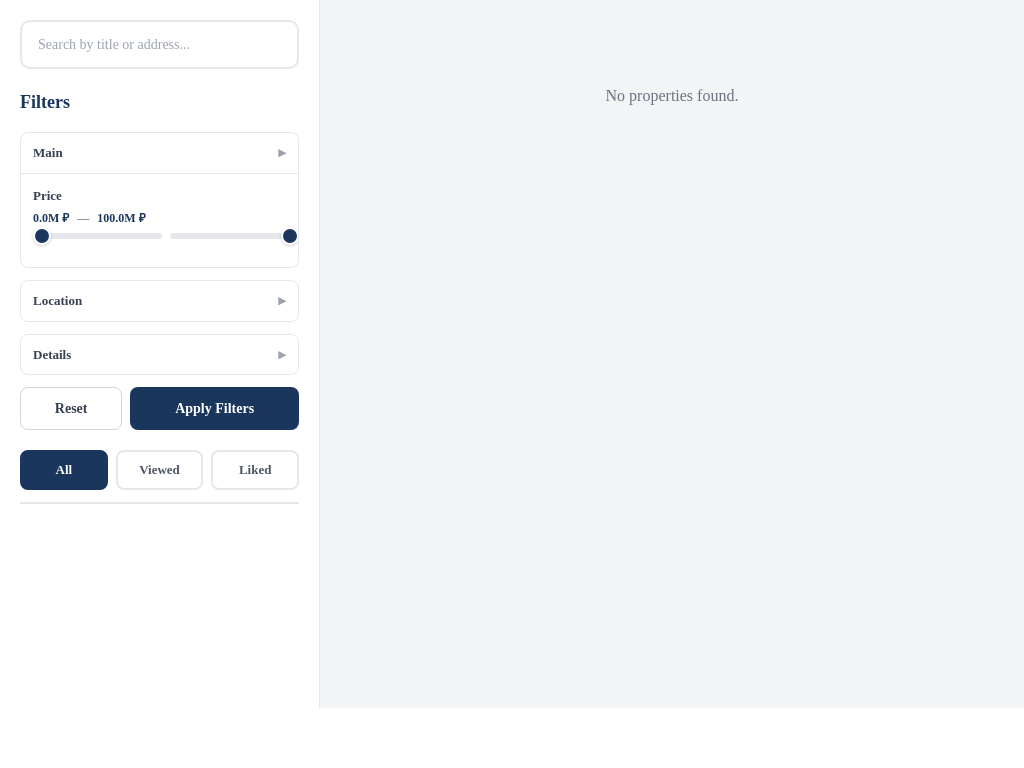
Test case: Catalog Page › shows empty state for viewed tab when authenticated
Check: the text "No properties found." is shown, box [606,87,738,104]
Click the button "Viewed".
click(160, 470)  # box [116,450,203,490]
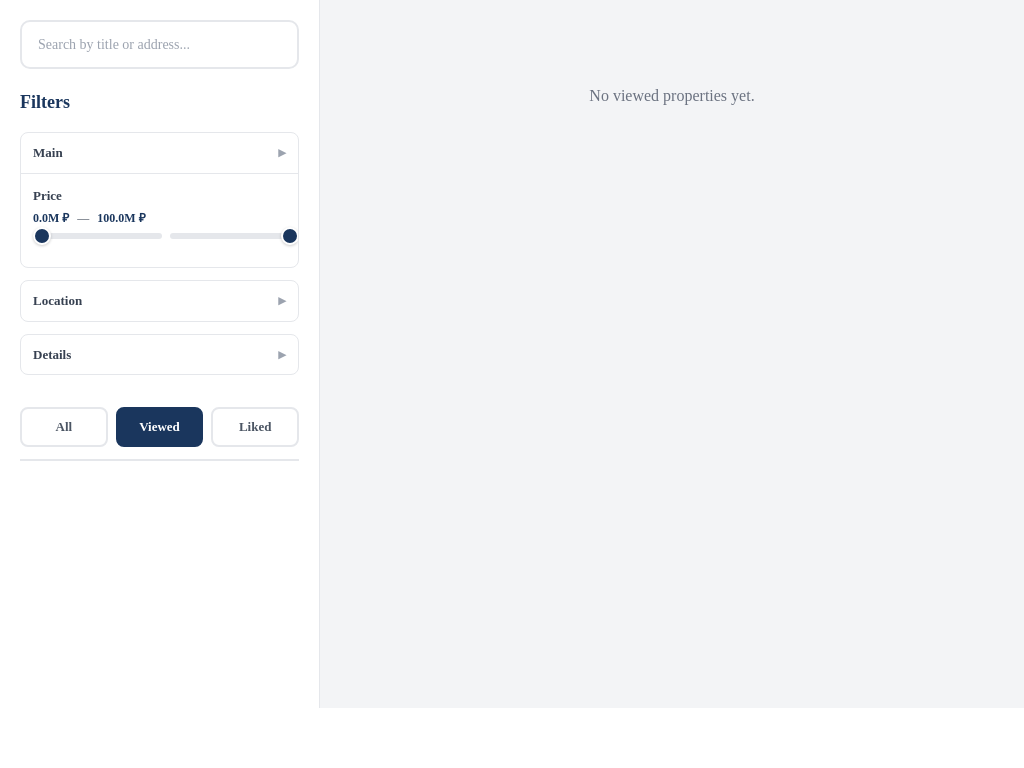
Check: the text "No viewed properties yet." is shown, box [589,87,755,104]
